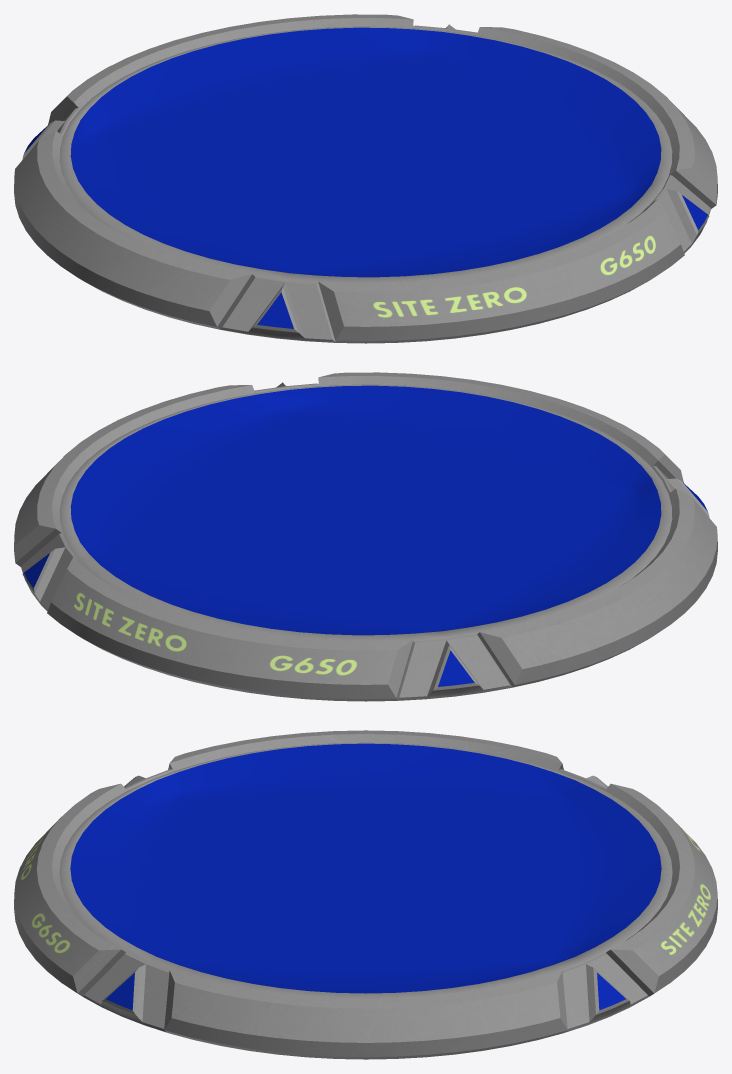
File: SM_JumpPad.fbx
The picture shows the model from 3 angles, top to bottom: view 1: azimuth 30°, elevation 25°; view 2: azimuth 150°, elevation 25°; view 3: azimuth 270°, elevation 25°; orthographic projection.
Parts seen in each view (by area): view 1: SM_JumpPad; view 2: SM_JumpPad; view 3: SM_JumpPad.
Part boxes in pixels (box(x1,y1,x2,y2)): SM_JumpPad: box(14, 14, 717, 343); SM_JumpPad: box(14, 372, 717, 701); SM_JumpPad: box(14, 730, 717, 1059).
Bounding box in the file's own units: 87.42 × 6.49 × 87.42.
